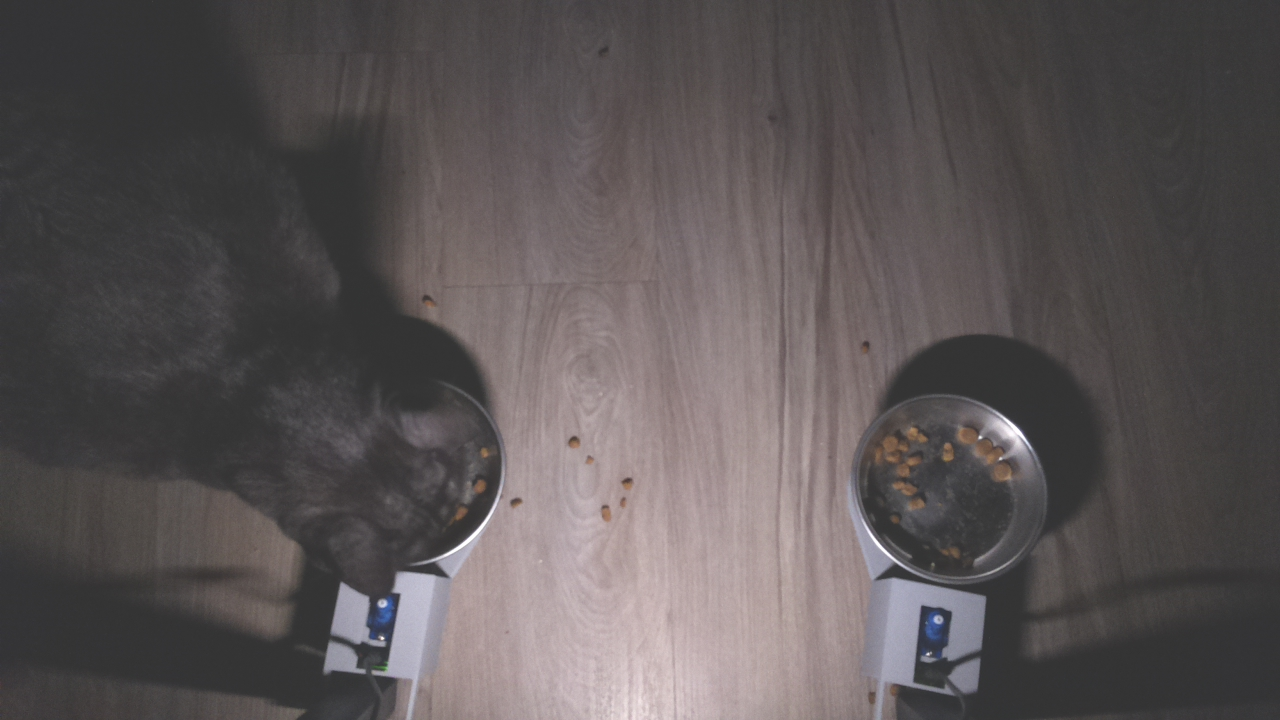open_bowl: (850, 390, 1055, 592)
saki_eating: (242, 283, 511, 607)
